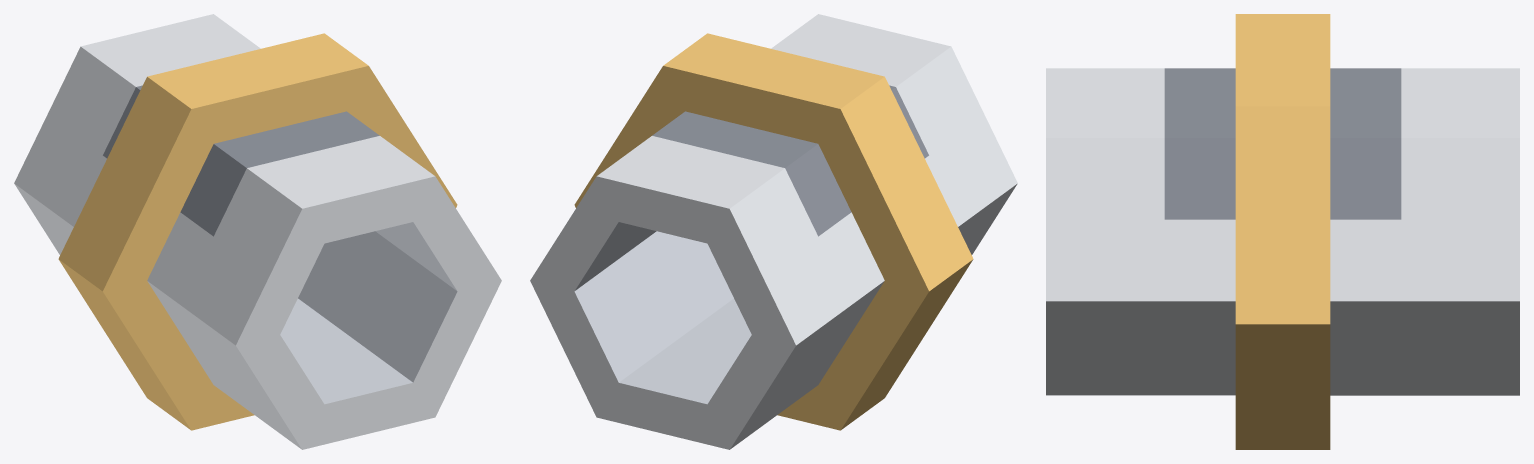
The model's file is pipe_ring.glb.
3 renders of one model, left to right at view 1: azimuth 30°, elevation 25°; view 2: azimuth 150°, elevation 25°; view 3: azimuth 270°, elevation 25°, orthographic. The views are drawn at different scales.
Visible parts, largest first — view 1: pipe_ring; view 2: pipe_ring; view 3: pipe_ring.
Boxes of the visible parts, x1,y1,x2,y2 form: pipe_ring: (14,14,501,449); pipe_ring: (530,14,1017,449); pipe_ring: (1046,14,1519,449).
Size of the model in its own units: 1.3 by 1.12 by 1.4.
